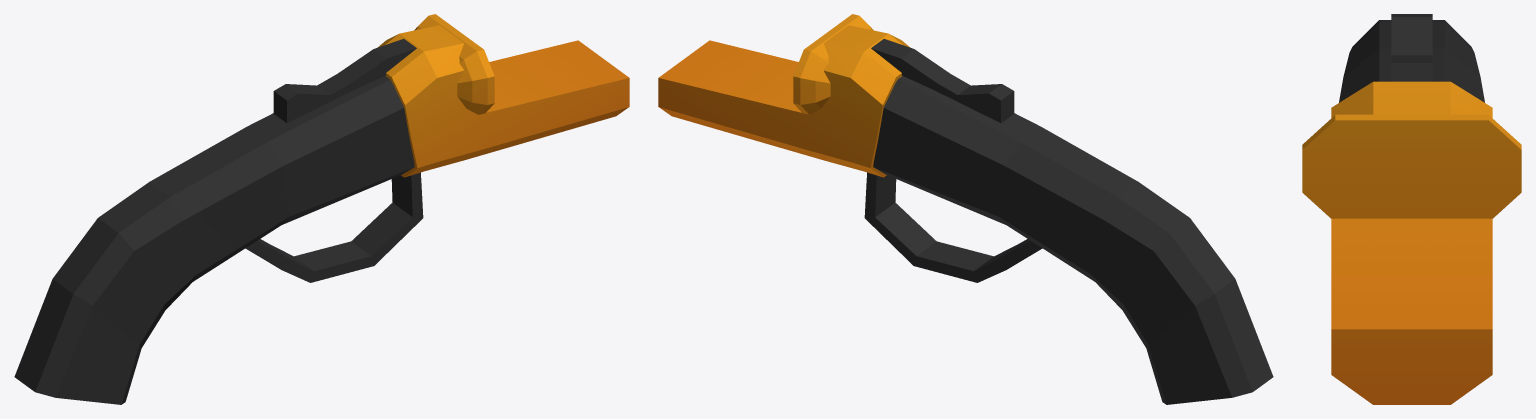
Rendered from Shotgun4_04.fbx.
The picture shows the model from 3 angles, left to right: view 1: azimuth 30°, elevation 25°; view 2: azimuth 150°, elevation 25°; view 3: azimuth 270°, elevation 25°; orthographic projection. The views are drawn at different scales.
Parts seen in each view (by area): view 1: Shotgun4_04; view 2: Shotgun4_04; view 3: Shotgun4_04.
Boxes of the visible parts, x1,y1,x2,y2 form: Shotgun4_04: (14, 14, 629, 404); Shotgun4_04: (658, 14, 1273, 404); Shotgun4_04: (1302, 14, 1521, 404).
Size of the model in its own units: 0.2995 by 0.1382 by 0.0624.
